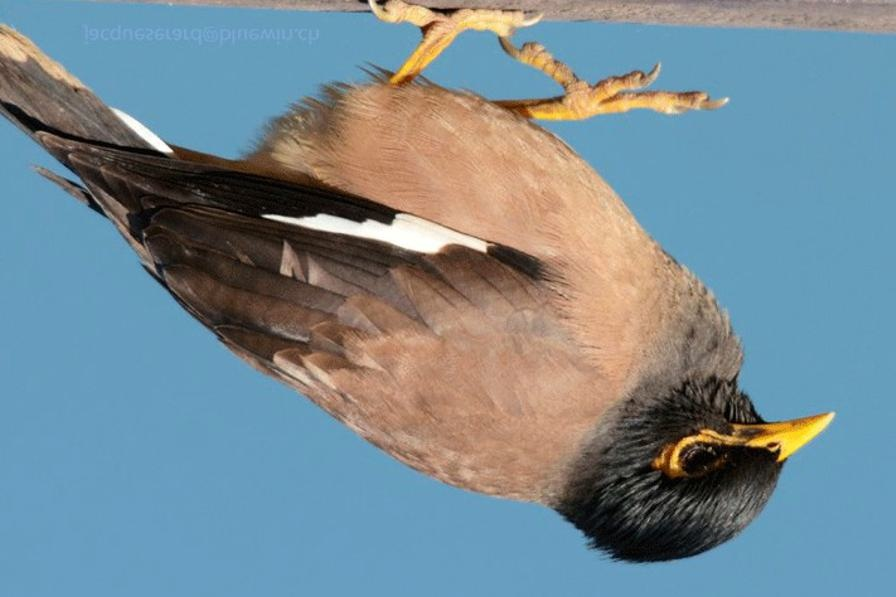myna: (100, 51, 820, 565)
